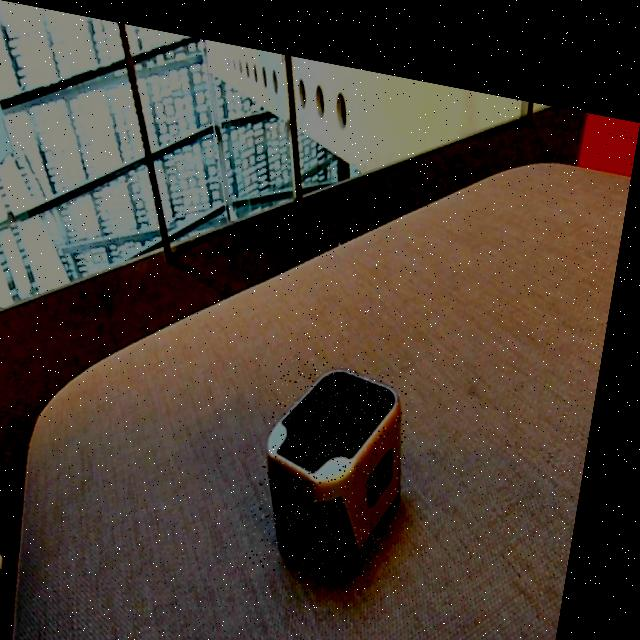adapter: (263, 340, 429, 574)
